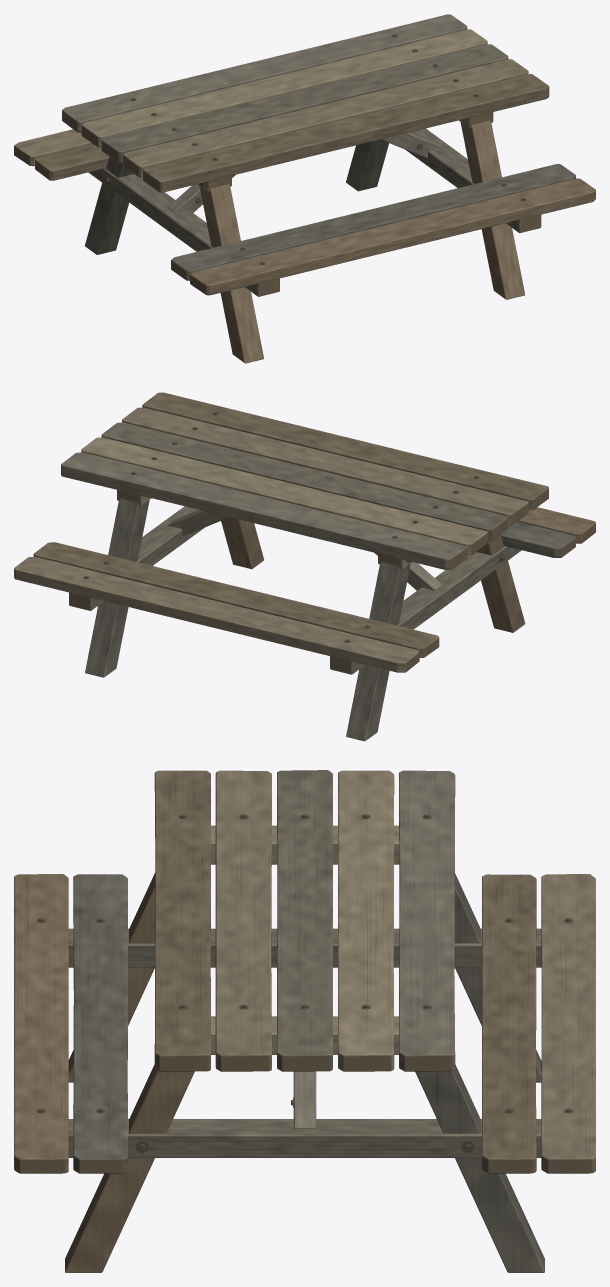
The model's file is BC_PT01_picnic_table.glb.
The picture shows the model from 3 angles, top to bottom: view 1: azimuth 30°, elevation 25°; view 2: azimuth 150°, elevation 25°; view 3: azimuth 270°, elevation 25°; orthographic projection. The views are drawn at different scales.
Visible parts, largest first — view 1: BC_PT01_Tabletop, BC_PT01_Frame, BC_PT01_Bench_Front, BC_PT01_Bench_Rear; view 2: BC_PT01_Tabletop, BC_PT01_Frame, BC_PT01_Bench_Rear, BC_PT01_Bench_Front; view 3: BC_PT01_Tabletop, BC_PT01_Frame, BC_PT01_Bench_Front, BC_PT01_Bench_Rear.
Boxes of the visible parts, x1=… form: BC_PT01_Tabletop: x1=62, y1=14, x2=549, y2=192; BC_PT01_Frame: x1=85, y1=112, x2=541, y2=363; BC_PT01_Bench_Front: x1=171, y1=164, x2=595, y2=295; BC_PT01_Bench_Rear: x1=14, y1=129, x2=109, y2=180; BC_PT01_Tabletop: x1=61, y1=392, x2=548, y2=569; BC_PT01_Frame: x1=69, y1=490, x2=525, y2=741; BC_PT01_Bench_Rear: x1=14, y1=542, x2=439, y2=672; BC_PT01_Bench_Front: x1=501, y1=507, x2=595, y2=557; BC_PT01_Tabletop: x1=154, y1=770, x2=455, y2=1071; BC_PT01_Frame: x1=65, y1=825, x2=544, y2=1272; BC_PT01_Bench_Front: x1=14, y1=874, x2=127, y2=1173; BC_PT01_Bench_Rear: x1=482, y1=874, x2=595, y2=1173.
Size of the model in its own units: 1.8 by 0.766 by 1.55.
2 materials, 1 textured.
